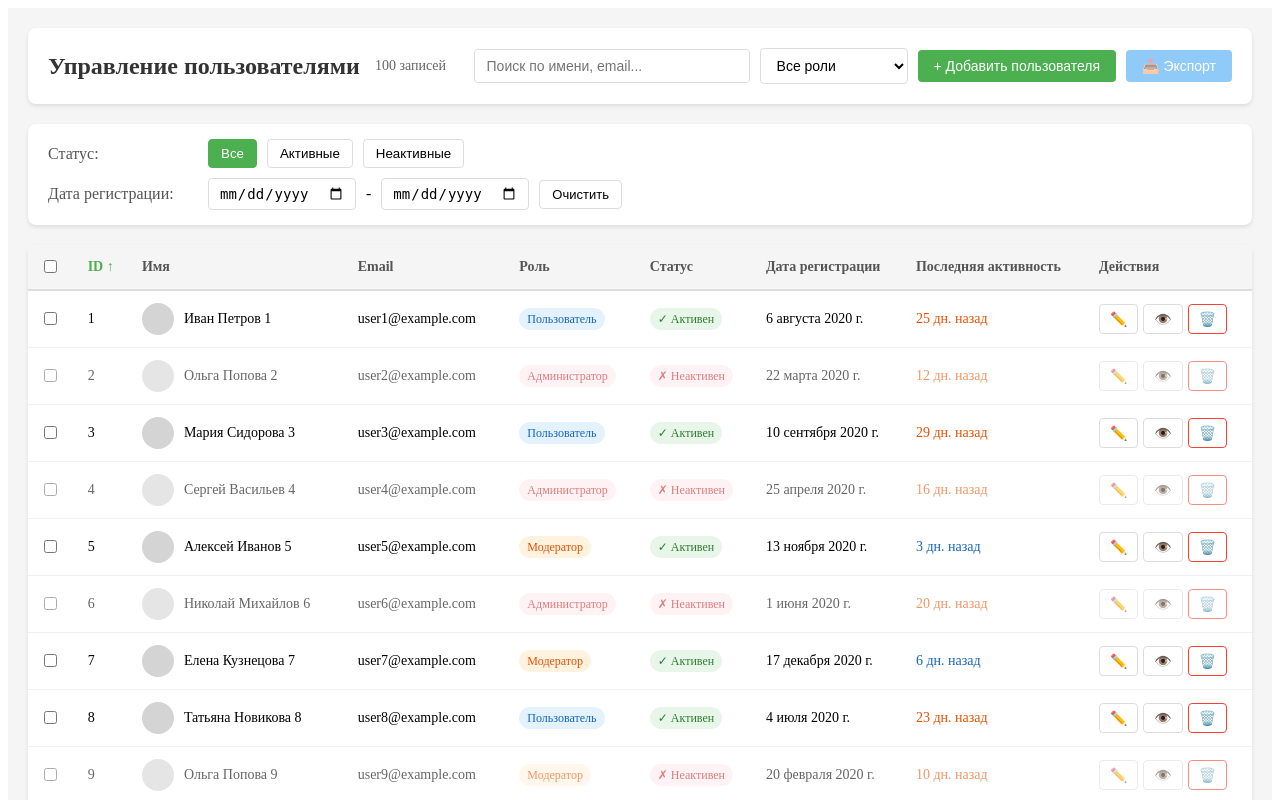
Test: UserTable › Фильтрация по роли › должен фильтровать пользователей по роли "admin"
Select "Администратор" in the dropdown with class "role-filter" at (834, 66), box left=760, top=48, right=908, bottom=84
(page scrolled)
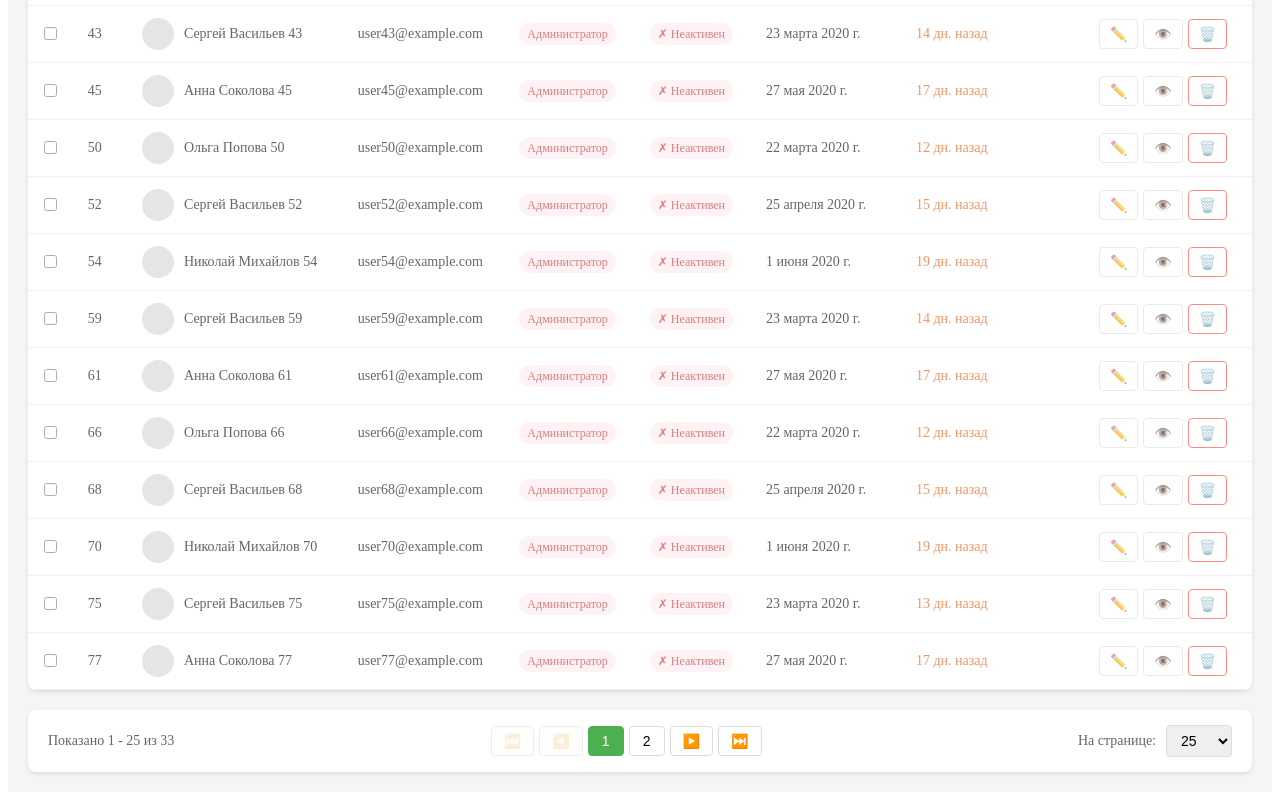
Now the text with class "role-badge" in the row of "Сергей Васильев 43" reads "Администратор", box left=527, top=27, right=608, bottom=41
Now the text with class "role-badge" in the row of "Анна Соколова 45" reads "Администратор", box left=527, top=84, right=608, bottom=98
Now the text with class "role-badge" in the row of "Ольга Попова 50" reads "Администратор", box left=527, top=141, right=608, bottom=155
